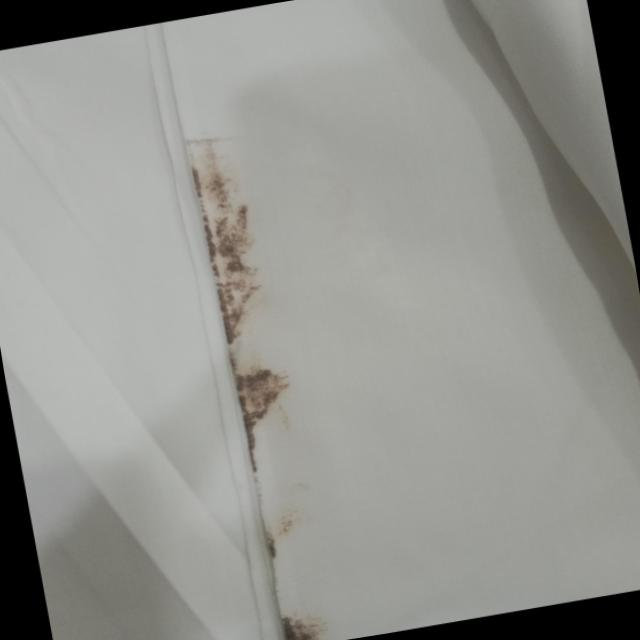stain: (177, 119, 346, 640)
